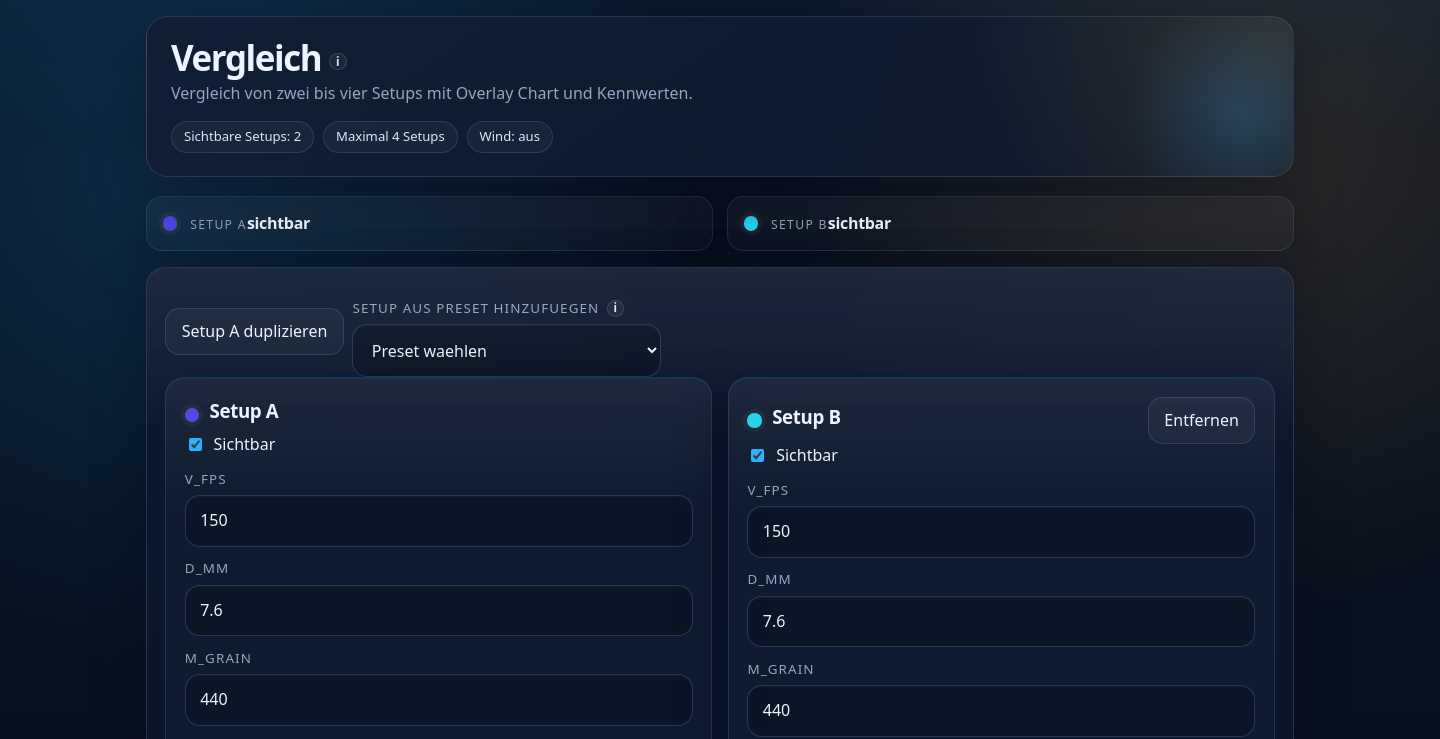
Test: compare page › duplicates setup A
Click the button "Setup A duplizieren": (255, 331) [165,308,344,355]
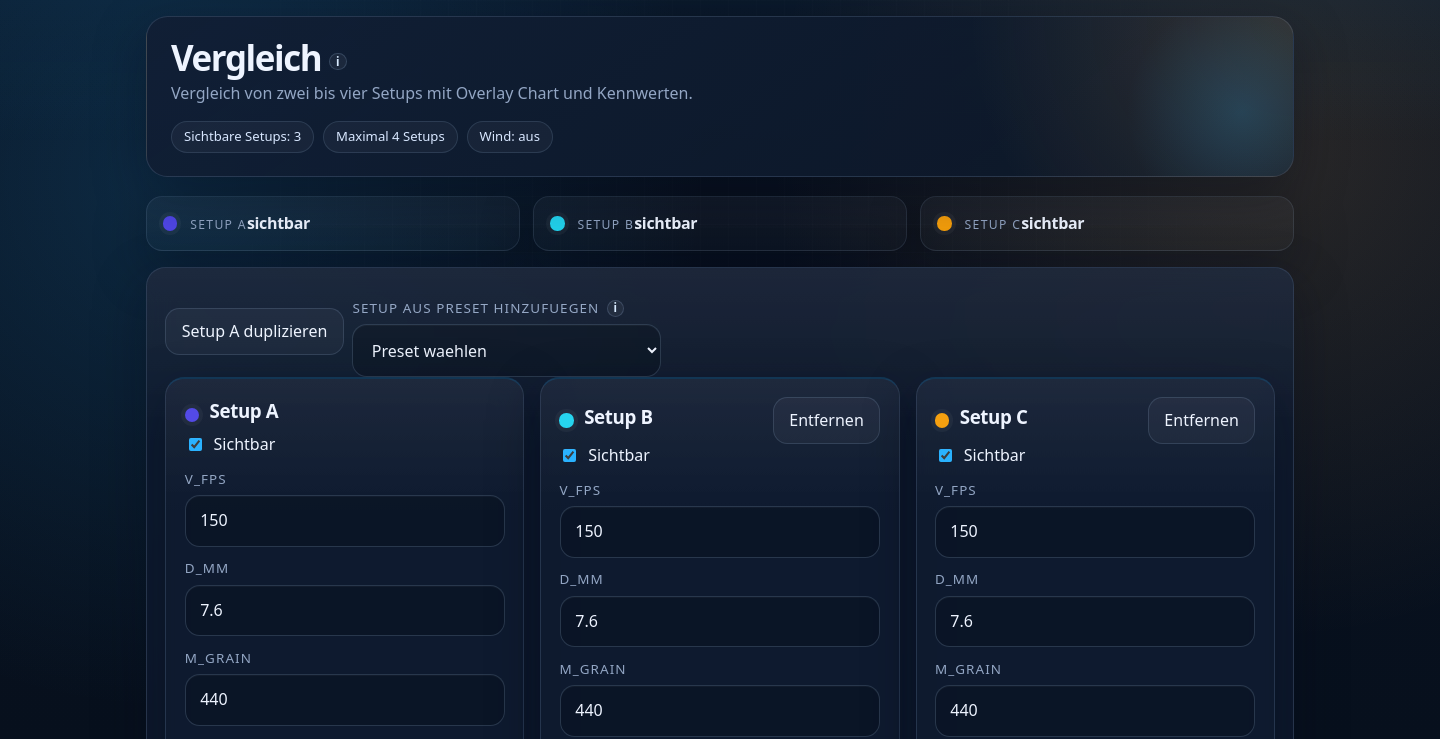
Expected: the text "Setup C" is shown, [965,216,1021,233]
